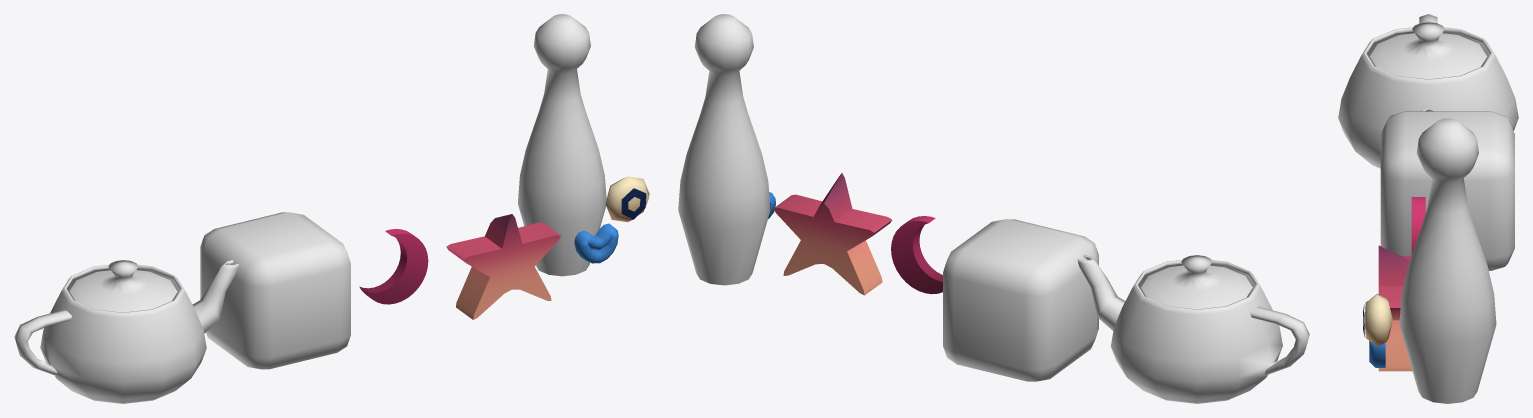
File: Gloinks.fbx
3 views of the same model, side by side, from view 1: azimuth 30°, elevation 25°; view 2: azimuth 150°, elevation 25°; view 3: azimuth 270°, elevation 25° (orthographic). The views are drawn at different scales.
Parts seen in each view (by area): view 1: Teapot.001, Cube.001, Circle, Gloink1.005, Cylinder.002, Gloink1.002, Gloink1.003; view 2: Teapot.001, Cube.001, Circle, Gloink1.005, Cylinder.002; view 3: Circle, Teapot.001, Cube.001, Gloink1.005, Gloink1.002, Cylinder.002, Gloink1.003.
Part boxes in pixels (x1,y1,x2,y2): Teapot.001: (14, 259, 238, 403); Cube.001: (200, 212, 350, 369); Circle: (518, 14, 606, 276); Gloink1.005: (446, 214, 560, 319); Cylinder.002: (359, 229, 428, 304); Gloink1.002: (605, 176, 649, 222); Gloink1.003: (574, 223, 618, 263); Teapot.001: (1077, 255, 1309, 403); Cube.001: (943, 219, 1098, 381); Circle: (678, 14, 770, 285); Gloink1.005: (773, 173, 891, 295); Cylinder.002: (891, 216, 942, 294); Circle: (1399, 118, 1496, 403); Teapot.001: (1338, 14, 1518, 168); Cube.001: (1380, 111, 1514, 270); Gloink1.005: (1378, 245, 1412, 371); Gloink1.002: (1363, 293, 1392, 346); Cylinder.002: (1411, 197, 1425, 254); Gloink1.003: (1369, 340, 1385, 367).
Size of the model in its own units: 7891 by 3195 by 1858.
